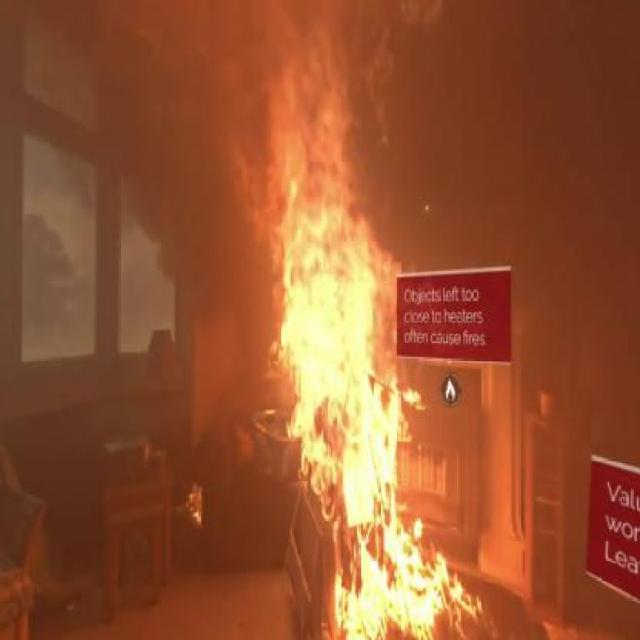fire: (304, 217, 392, 640)
smoke: (43, 49, 229, 274), (407, 47, 586, 218)
